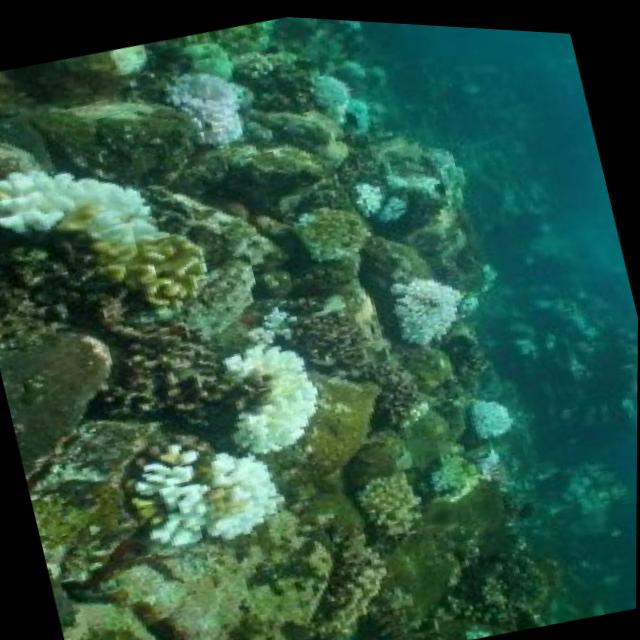Bleached Coral: (0, 114, 187, 292), (184, 310, 356, 476), (281, 13, 442, 160), (128, 426, 294, 556), (128, 23, 270, 174), (418, 370, 550, 521), (385, 254, 491, 353), (321, 158, 430, 248)
